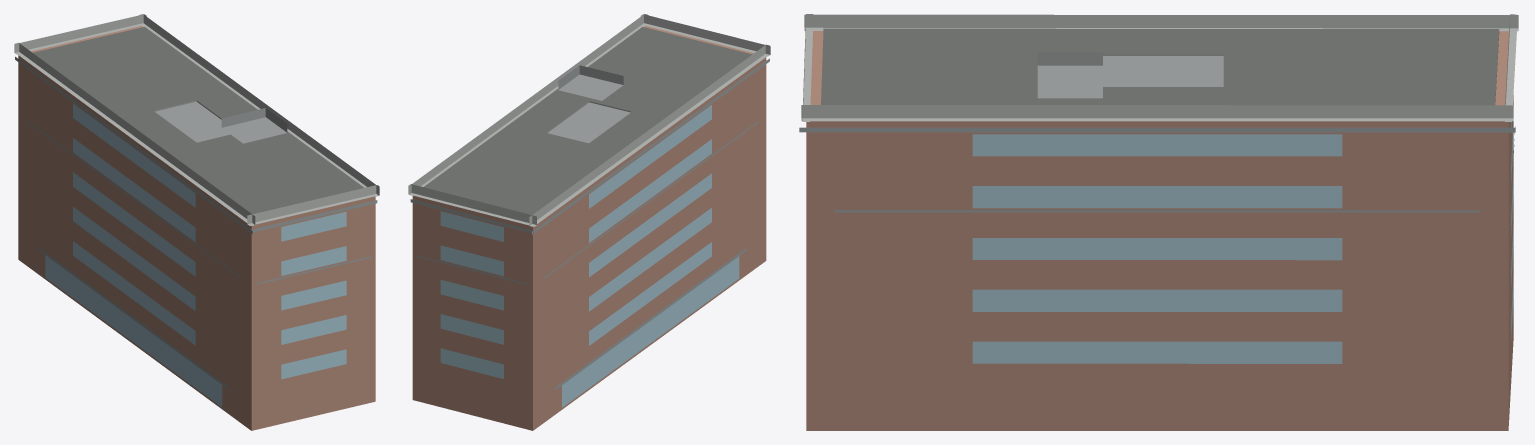
File: tile-p003-m003.glb
3 views of the same model, side by side, from view 1: azimuth 30°, elevation 25°; view 2: azimuth 150°, elevation 25°; view 3: azimuth 270°, elevation 25° (orthographic). The views are drawn at different scales.
Visible parts, largest first — view 1: building-1205-mesh-0, building-1205-mesh-3, building-1205-mesh-1, building-1205-mesh-4, building-1205-mesh-5, building-1205-mesh-2; view 2: building-1205-mesh-0, building-1205-mesh-3, building-1205-mesh-1, building-1205-mesh-4, building-1205-mesh-5, building-1205-mesh-2; view 3: building-1205-mesh-0, building-1205-mesh-3, building-1205-mesh-1, building-1205-mesh-4, building-1205-mesh-5, building-1205-mesh-2.
Boxes of the visible parts, box(x1,y1,x2,y2) form: building-1205-mesh-0: box(18, 26, 375, 430); building-1205-mesh-3: box(33, 27, 364, 214); building-1205-mesh-1: box(45, 103, 346, 407); building-1205-mesh-4: box(14, 14, 379, 225); building-1205-mesh-5: box(154, 100, 287, 143); building-1205-mesh-2: box(15, 56, 377, 389); building-1205-mesh-0: box(412, 26, 766, 430); building-1205-mesh-3: box(423, 27, 751, 214); building-1205-mesh-1: box(440, 105, 739, 407); building-1205-mesh-4: box(408, 14, 770, 226); building-1205-mesh-5: box(547, 65, 630, 143); building-1205-mesh-2: box(410, 58, 769, 389); building-1205-mesh-0: box(806, 31, 1513, 430); building-1205-mesh-3: box(821, 28, 1499, 105); building-1205-mesh-1: box(972, 121, 1513, 363); building-1205-mesh-4: box(801, 14, 1518, 121); building-1205-mesh-5: box(1037, 52, 1223, 98); building-1205-mesh-2: box(799, 123, 1515, 212).
Size of the model in its own units: 13.15 by 21.85 by 42.22.
